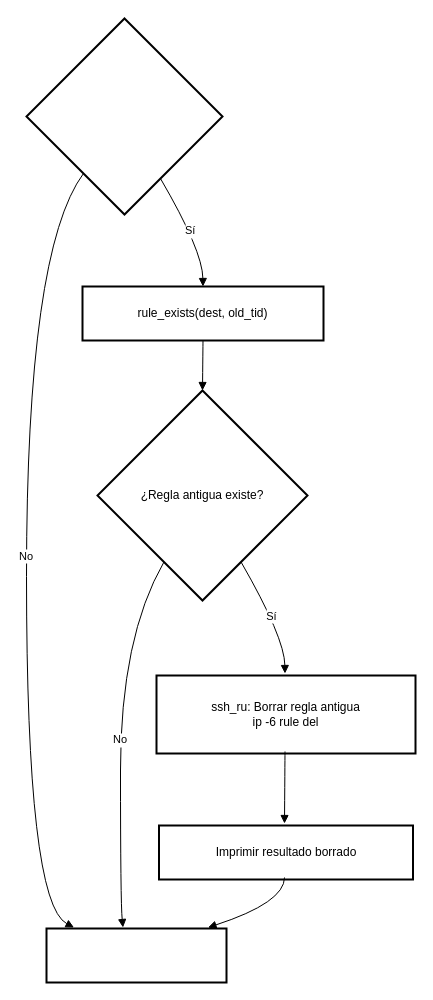
The diagram is 433 pixels wide and 1000 high, and some of its shapes have lost their labels. Each missing label, with the centre of its shape:
"Continuar con la ejecución" belongs at (136,955).
"¿args.delete_old no es None?" belongs at (124,116).
